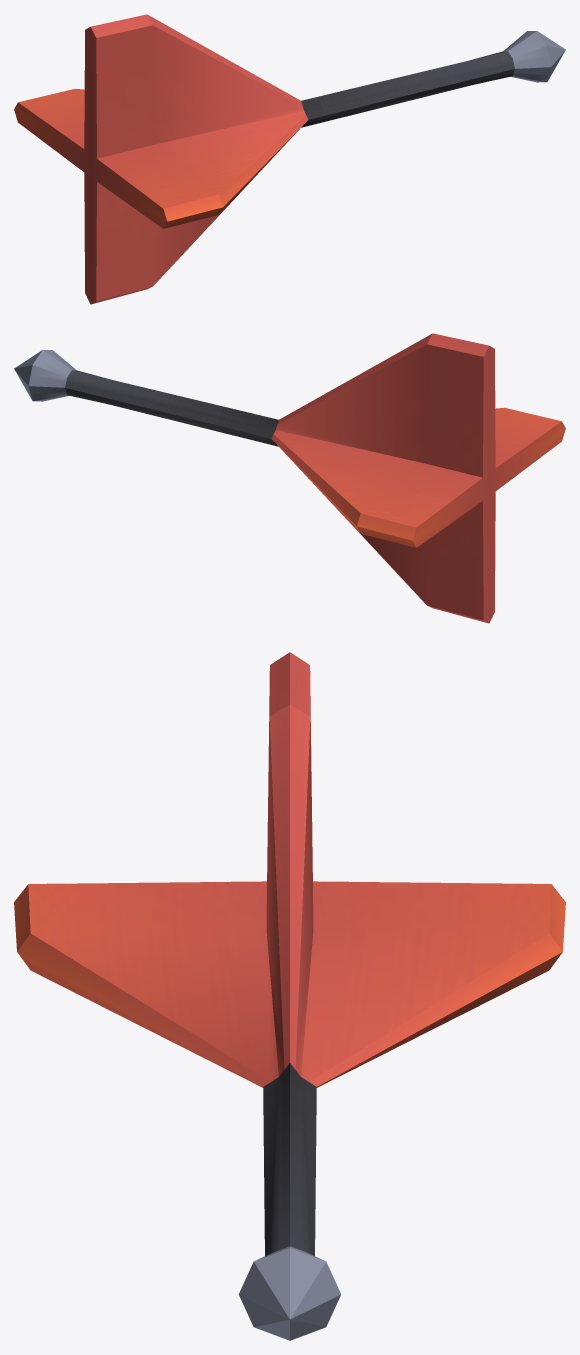
The model's file is dart.fbx.
3 views of the same model, one above another, from view 1: azimuth 30°, elevation 25°; view 2: azimuth 150°, elevation 25°; view 3: azimuth 270°, elevation 25° (orthographic). The views are drawn at different scales.
Parts seen in each view (by area): view 1: dart; view 2: dart; view 3: dart.
Boxes of the visible parts, x1,y1,x2,y2 form: dart: (14,14,565,304); dart: (14,333,565,623); dart: (14,652,565,1340).
Size of the model in its own units: 0.1224 by 0.0684 by 0.0684.
